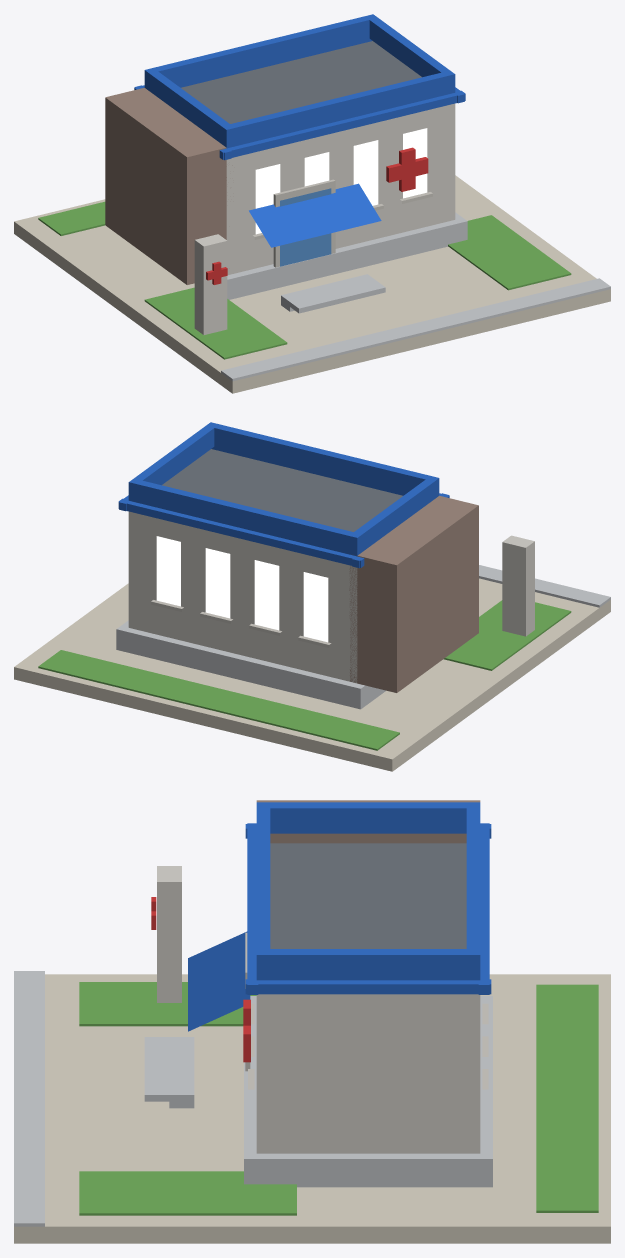
3 views of the same model, one above another, from view 1: azimuth 30°, elevation 25°; view 2: azimuth 150°, elevation 25°; view 3: azimuth 270°, elevation 25° (orthographic). The views are drawn at different scales.
Visible parts, largest first — view 1: b26_v2_lod1; view 2: b26_v2_lod1; view 3: b26_v2_lod1.
Part boxes in pixels (x1,y1,x2,y2): b26_v2_lod1: [14, 14, 610, 393]; b26_v2_lod1: [14, 422, 610, 771]; b26_v2_lod1: [14, 800, 610, 1243].
Size of the model in its own units: 0.96 by 0.433 by 0.96.
